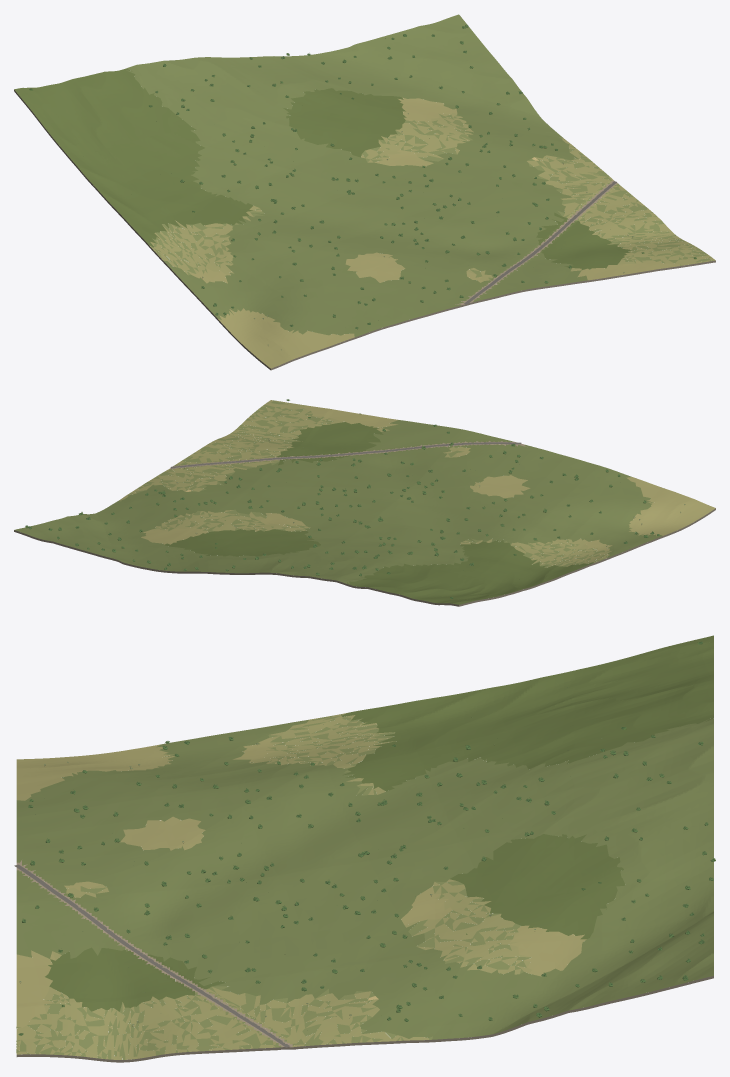
File: parca_+6_-9-yakin.glb
The picture shows the model from 3 angles, top to bottom: view 1: azimuth 30°, elevation 25°; view 2: azimuth 150°, elevation 25°; view 3: azimuth 270°, elevation 25°; orthographic projection. The views are drawn at different scales.
Visible parts, largest first — view 1: parca_+6_-9_arazi, parca_+6_-9_bitkiler, parca_+6_-9_yollar; view 2: parca_+6_-9_arazi, parca_+6_-9_bitkiler, parca_+6_-9_yollar; view 3: parca_+6_-9_arazi, parca_+6_-9_bitkiler, parca_+6_-9_yollar.
Boxes of the visible parts, box(x1,y1,x2,y2) form: parca_+6_-9_arazi: box(14, 14, 715, 370); parca_+6_-9_bitkiler: box(29, 24, 696, 350); parca_+6_-9_yollar: box(464, 181, 616, 304); parca_+6_-9_arazi: box(14, 400, 715, 606); parca_+6_-9_bitkiler: box(25, 399, 685, 598); parca_+6_-9_yollar: box(170, 442, 521, 468); parca_+6_-9_arazi: box(16, 635, 713, 1062); parca_+6_-9_bitkiler: box(18, 641, 715, 1035); parca_+6_-9_yollar: box(14, 864, 290, 1047).
Size of the model in its own units: 1002 by 211 by 1007.
